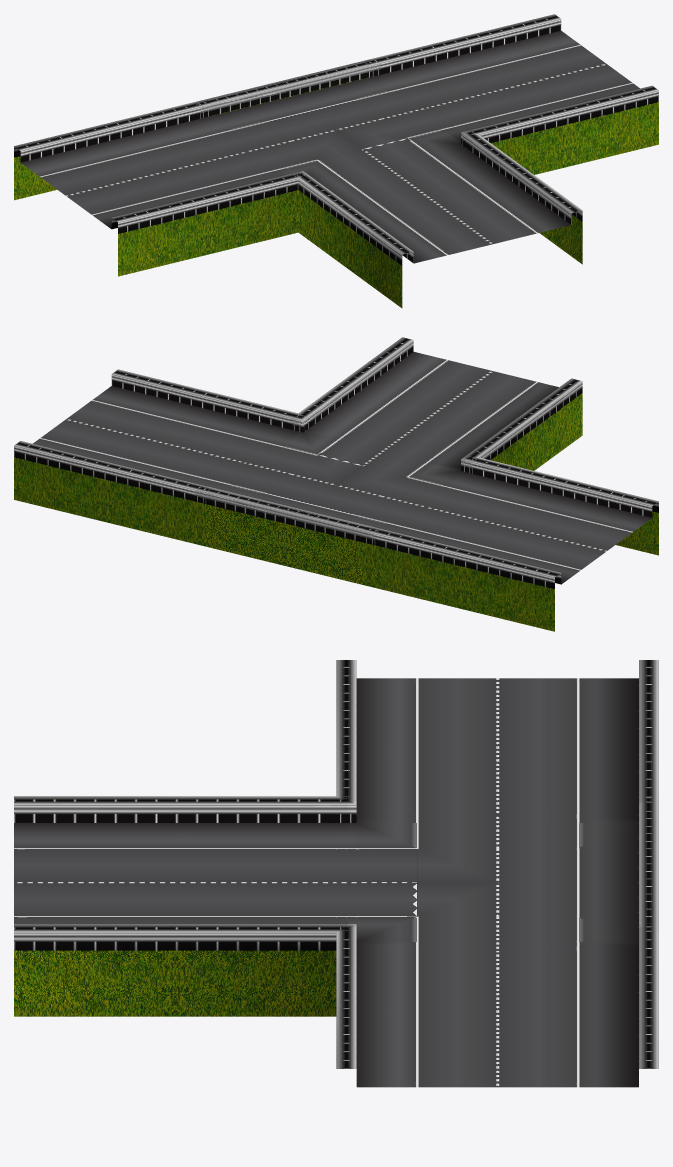
The model's file is t-splitsing_weg_1.fbx.
The picture shows the model from 3 angles, top to bottom: view 1: azimuth 30°, elevation 25°; view 2: azimuth 150°, elevation 25°; view 3: azimuth 270°, elevation 25°; orthographic projection. The views are drawn at different scales.
Visible parts, largest first — view 1: t-splitsing_weg_; view 2: t-splitsing_weg_; view 3: t-splitsing_weg_.
Boxes of the visible parts, <box> form: t-splitsing_weg_: <box>14,14,658,308</box>; t-splitsing_weg_: <box>14,337,658,631</box>; t-splitsing_weg_: <box>14,660,658,1087</box>.
Bounding box in the file's own units: 3000 × 288 × 2000.
